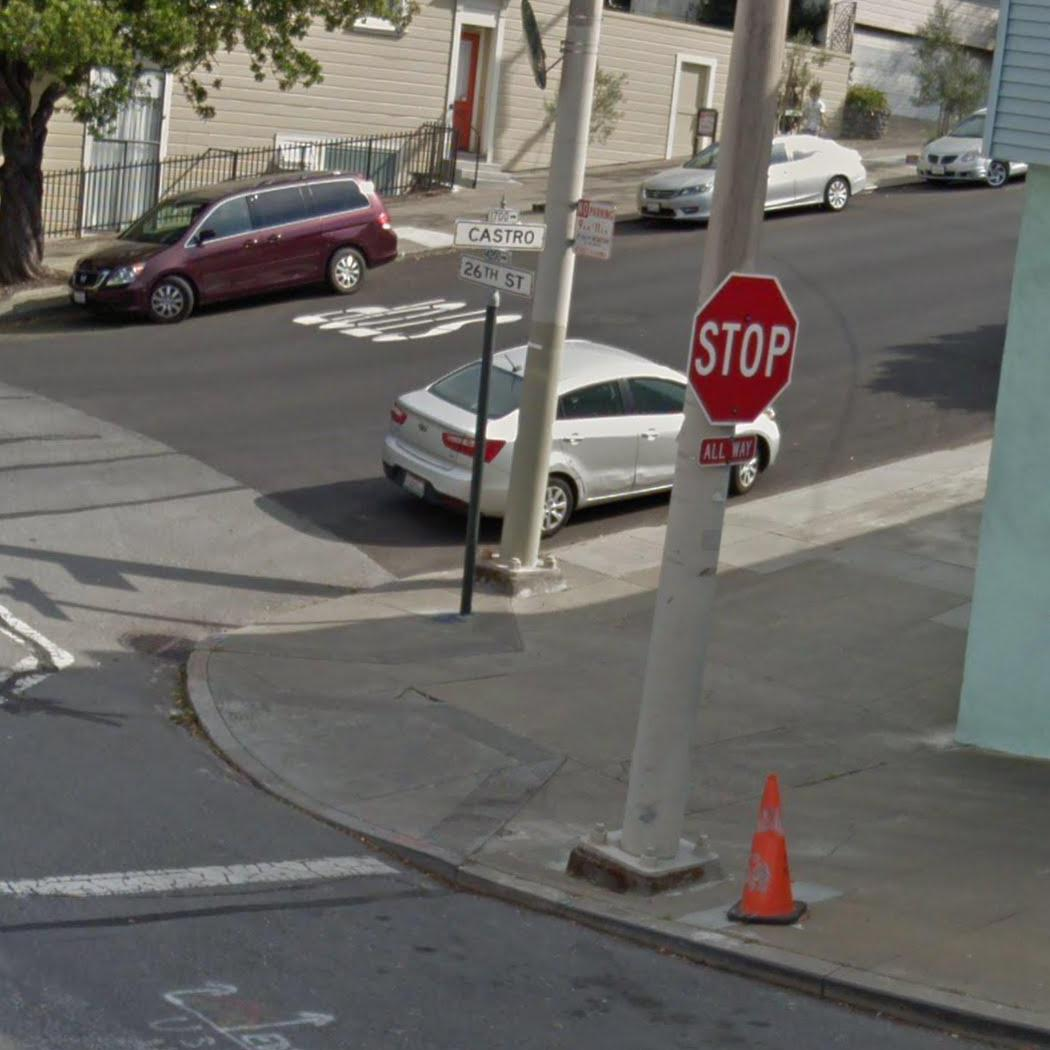No Parking: (569, 196, 618, 263)
